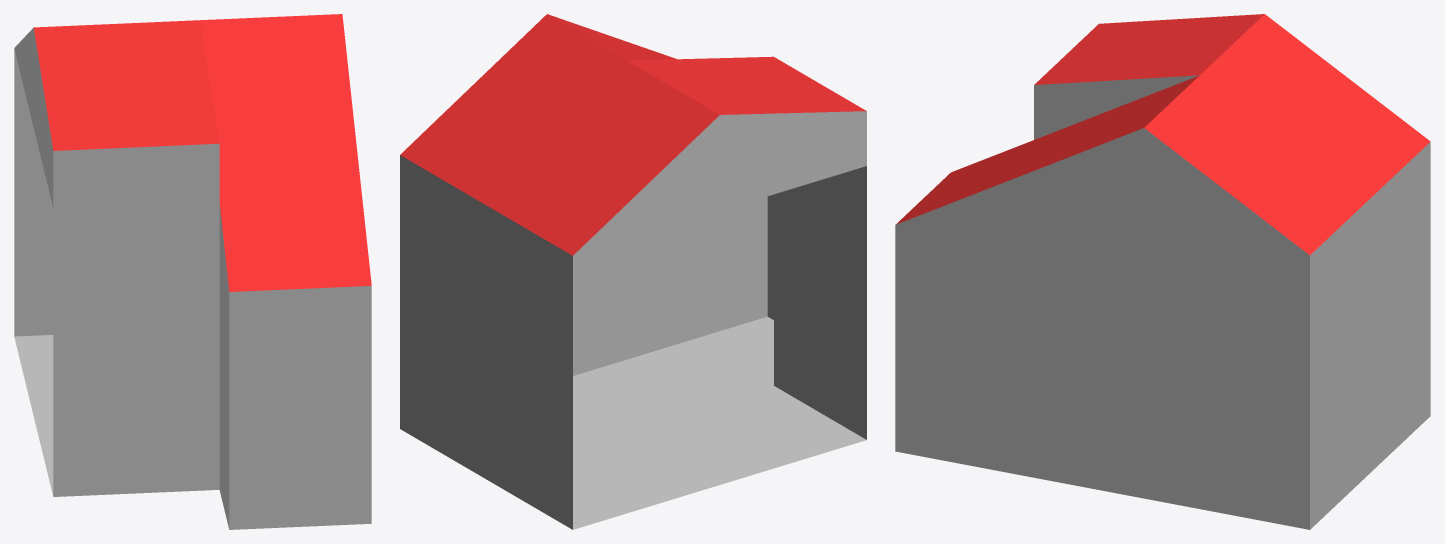
The model's file is pb-9635e7ec-7f36-11f0-b55b-9c7bef4dcf4c.dae.
3 renders of one model, left to right at view 1: azimuth 30°, elevation 25°; view 2: azimuth 150°, elevation 25°; view 3: azimuth 270°, elevation 25°, orthographic. The views are drawn at different scales.
Size of the model in its own units: 9.2 by 11.78 by 9.
